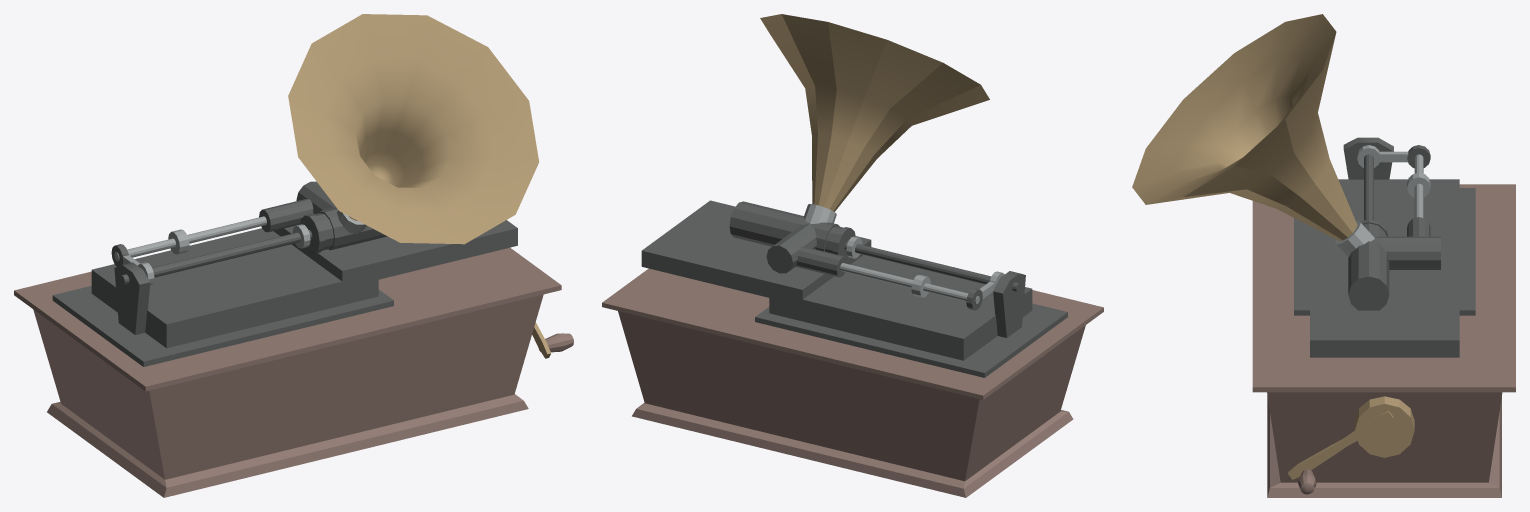
Rendered from Fonografo.fbx.
3 views of the same model, side by side, from view 1: azimuth 30°, elevation 25°; view 2: azimuth 150°, elevation 25°; view 3: azimuth 270°, elevation 25° (orthographic). The views are drawn at different scales.
Visible parts, largest first — view 1: pCube1, pCylinder6, pCube5, pCube2, pCylinder1, pCube4, pCylinder9, pCylinder12, pCylinder8; view 2: pCube1, pCube5, pCylinder6, pCube2, pCylinder1, pCube4, pCylinder8, pCylinder9, pCylinder12; view 3: pCube1, pCylinder6, pCube5, pCube2, pCylinder1, pCylinder3, pCylinder8, pCube6, pCube4, pCylinder5, pCylinder9, pCylinder12.
Part boxes in pixels (x1=…): pCube1: x1=14, y1=247, x2=561, y2=497; pCylinder6: x1=288, y1=14, x2=539, y2=244; pCube5: x1=91, y1=220, x2=517, y2=348; pCube2: x1=52, y1=286, x2=393, y2=366; pCylinder1: x1=120, y1=207, x2=387, y2=285; pCube4: x1=114, y1=262, x2=150, y2=334; pCylinder9: x1=114, y1=216, x2=266, y2=261; pCylinder12: x1=259, y1=199, x2=313, y2=232; pCylinder8: x1=296, y1=181, x2=335, y2=214; pCube1: x1=602, y1=268, x2=1103, y2=497; pCube5: x1=641, y1=200, x2=1032, y2=360; pCylinder6: x1=760, y1=14, x2=989, y2=211; pCube2: x1=755, y1=303, x2=1067, y2=377; pCylinder1: x1=729, y1=201, x2=1020, y2=292; pCube4: x1=993, y1=271, x2=1025, y2=337; pCylinder8: x1=766, y1=223, x2=816, y2=273; pCylinder9: x1=840, y1=263, x2=979, y2=303; pCylinder12: x1=795, y1=246, x2=847, y2=277; pCube1: x1=1252, y1=184, x2=1515, y2=497; pCylinder6: x1=1132, y1=14, x2=1357, y2=240; pCube5: x1=1310, y1=179, x2=1459, y2=357; pCube2: x1=1294, y1=188, x2=1475, y2=315; pCylinder1: x1=1348, y1=154, x2=1389, y2=310; pCylinder3: x1=1355, y1=396, x2=1414, y2=457; pCylinder8: x1=1374, y1=236, x2=1440, y2=269; pCube6: x1=1288, y1=410, x2=1393, y2=479; pCube4: x1=1343, y1=137, x2=1393, y2=179; pCylinder5: x1=1335, y1=220, x2=1374, y2=257; pCylinder9: x1=1414, y1=154, x2=1423, y2=217; pCylinder12: x1=1407, y1=217, x2=1430, y2=236.
Bounding box in the file's own units: 17.6 × 14.84 × 12.85.
